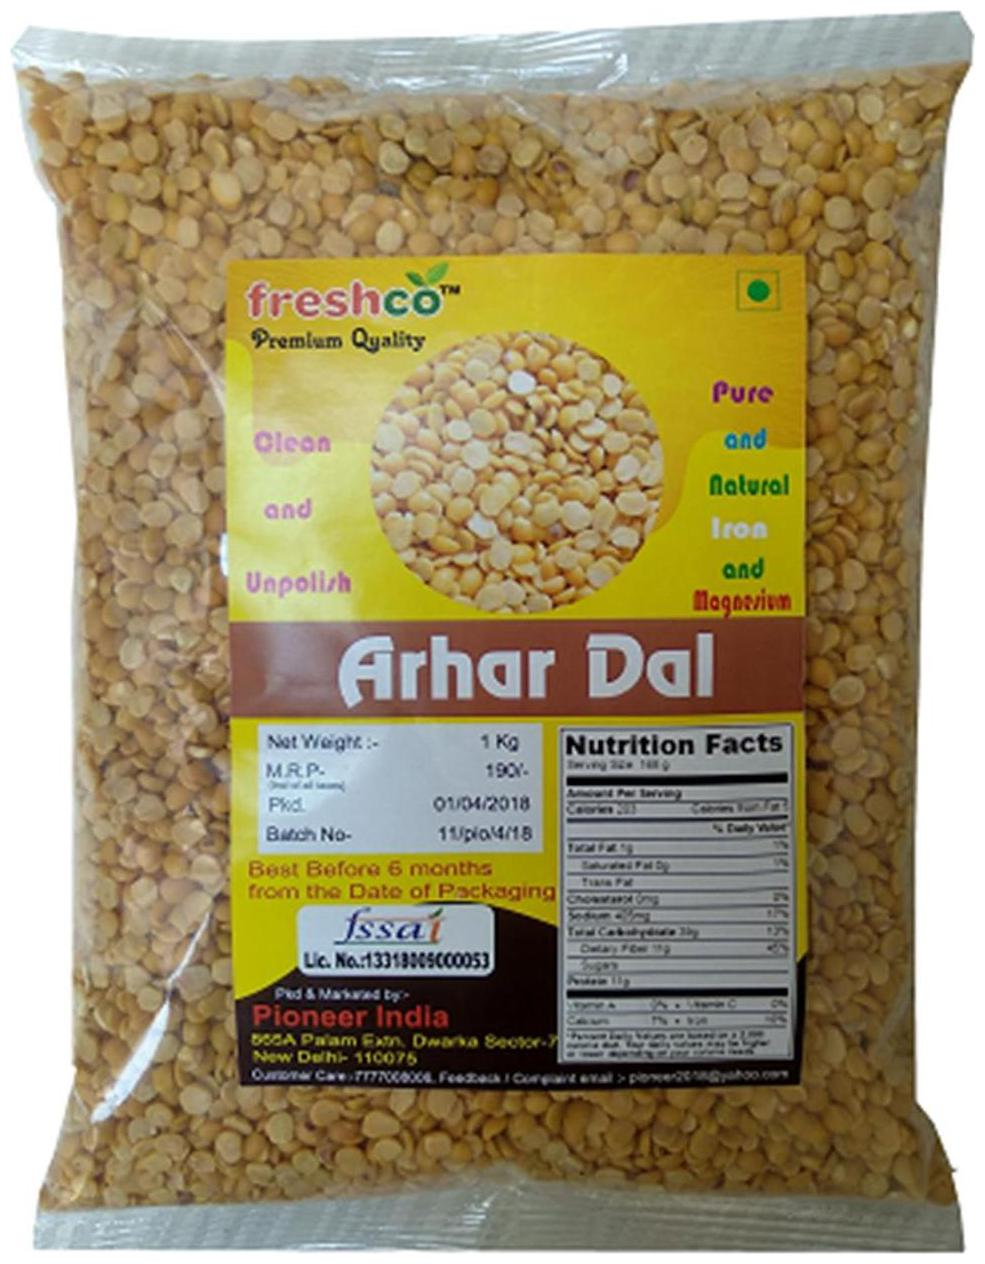fssai: (331, 907, 443, 945)
